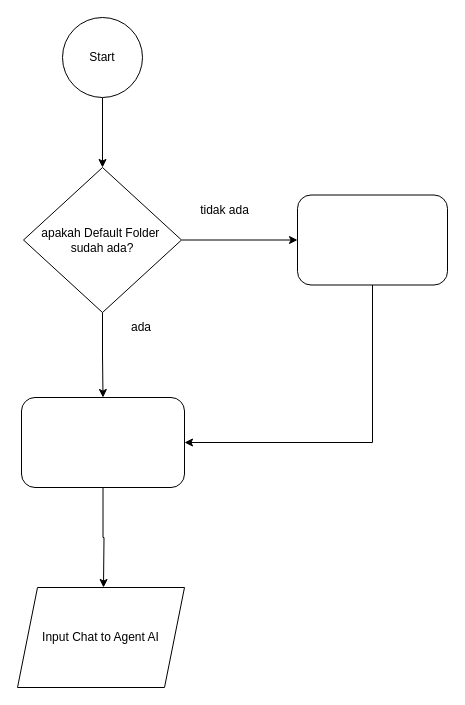
This 465x705 diagram has some shape labels left out. The shapes that lost their labels are listed below. From the top down, each one's centre as x and y in pixels, then its label:
the point at 372,239: making Default Folder
the point at 102,442: menampilkan menu utama
